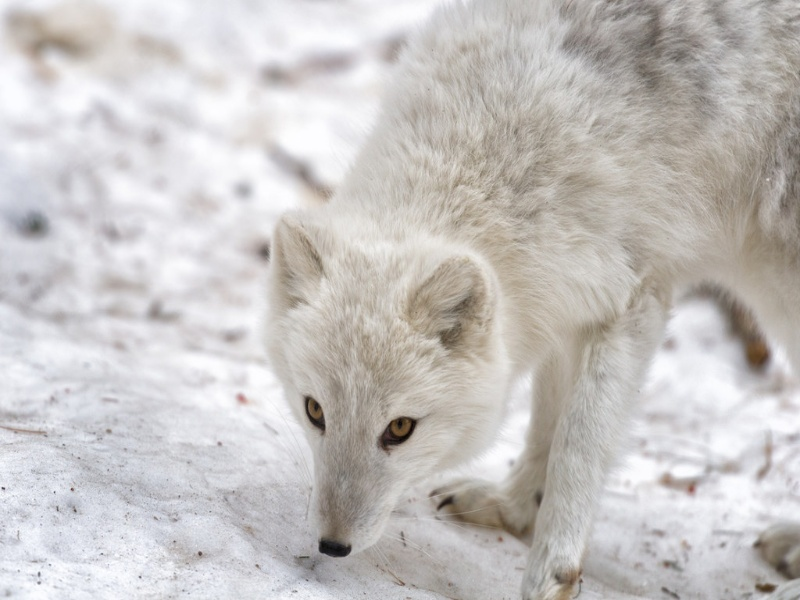fox: (259, 1, 800, 595)
